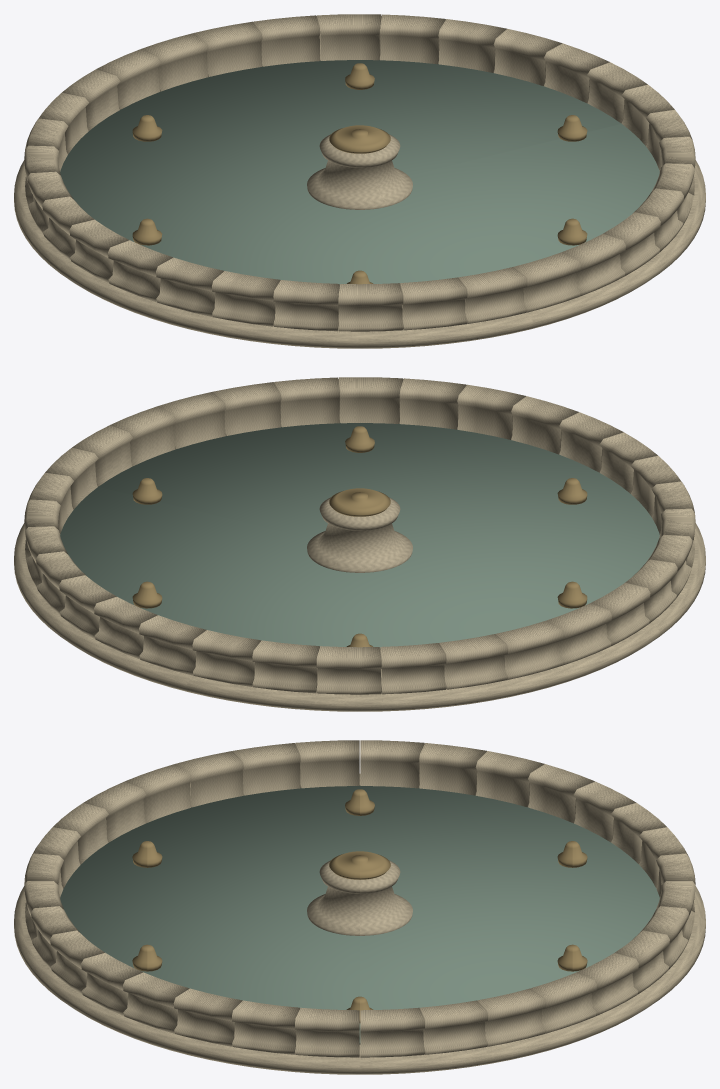
File: basin.glb
3 renders of one model, top to bottom at view 1: azimuth 30°, elevation 25°; view 2: azimuth 150°, elevation 25°; view 3: azimuth 270°, elevation 25°, orthographic.
Parts seen in each view (by area): view 1: basin; view 2: basin; view 3: basin.
Part boxes in pixels (bbox=[...]): basin: bbox=[14, 14, 705, 348]; basin: bbox=[14, 377, 705, 711]; basin: bbox=[14, 740, 705, 1074].
Size of the model in its own units: 8.74 by 1.01 by 8.74.
3 materials, 1 textured.
